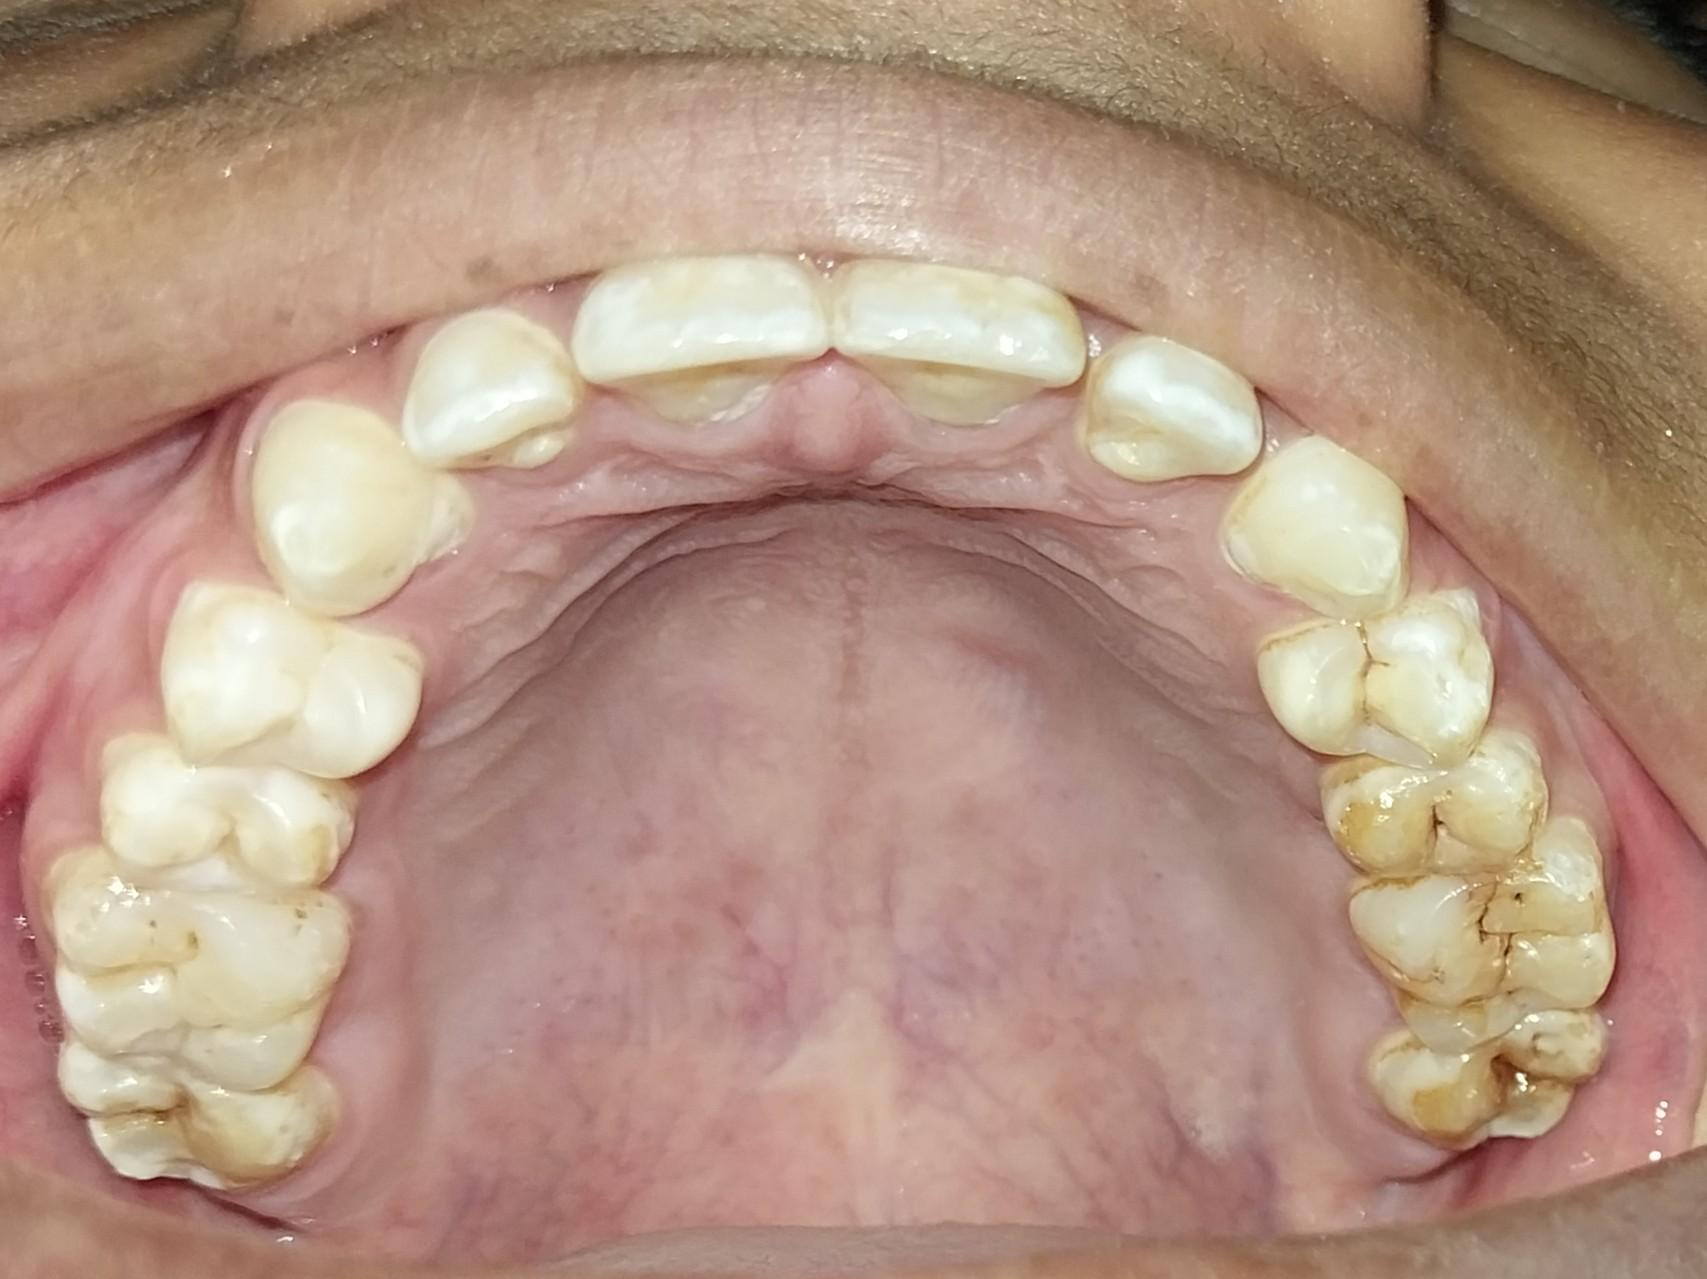D: (1355, 839, 1616, 1035), (1353, 1002, 1614, 1148), (1325, 750, 1542, 878)
